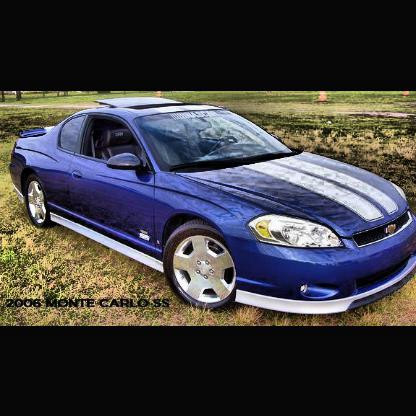Chevrolet Monte Carlo Coupe 2007: (8, 97, 416, 318)
